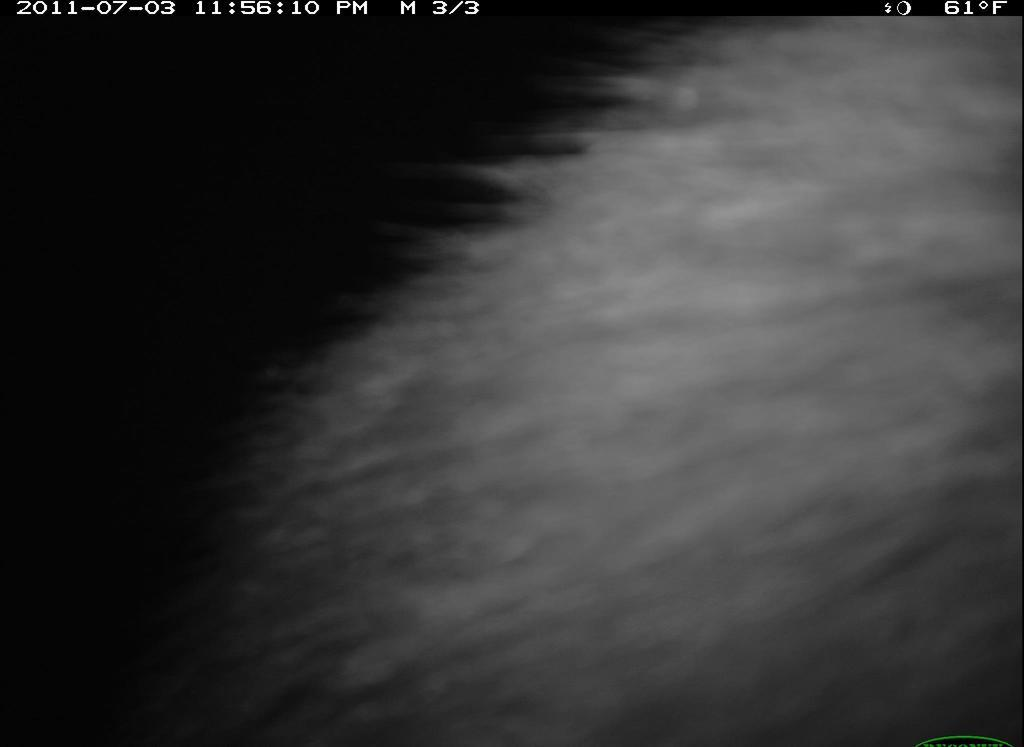raccoon: (155, 21, 1022, 747)
